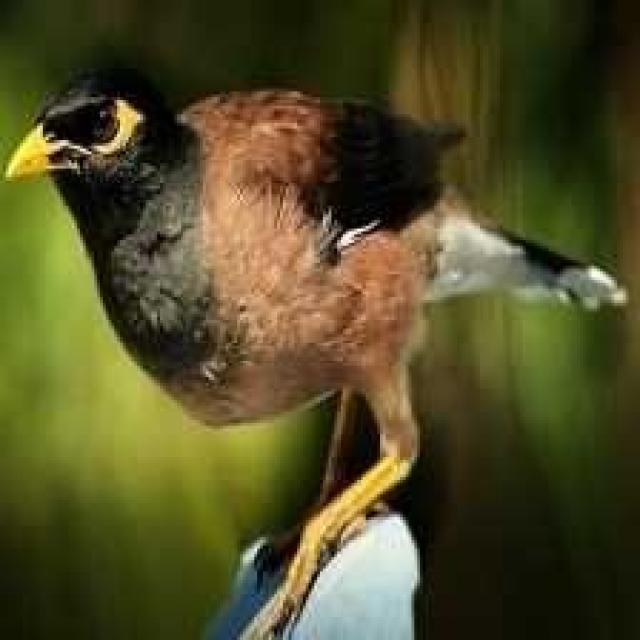bird: (0, 47, 631, 640)
